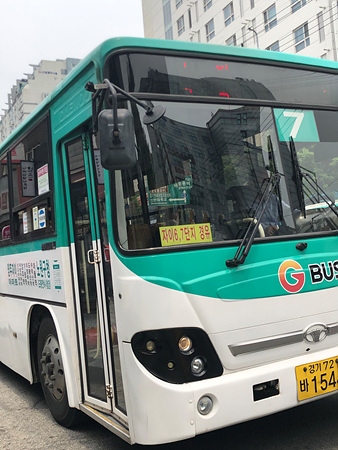bnum: (279, 107, 312, 141)
